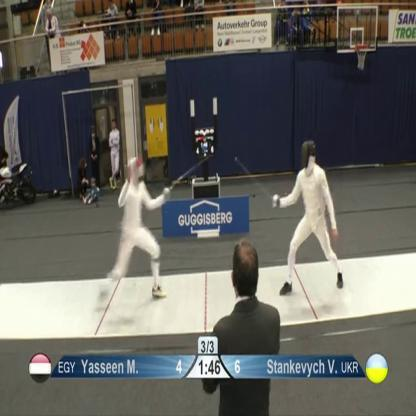crowd: (104, 113, 124, 190), (83, 120, 100, 191), (75, 151, 89, 203)
fencer: (95, 152, 173, 316), (273, 138, 345, 301)
referee: (198, 234, 287, 416)
